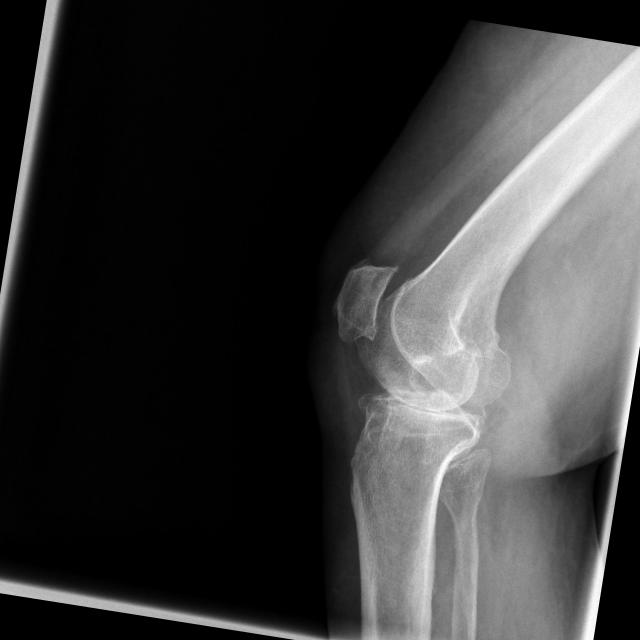Knee: (310, 252, 534, 490)
